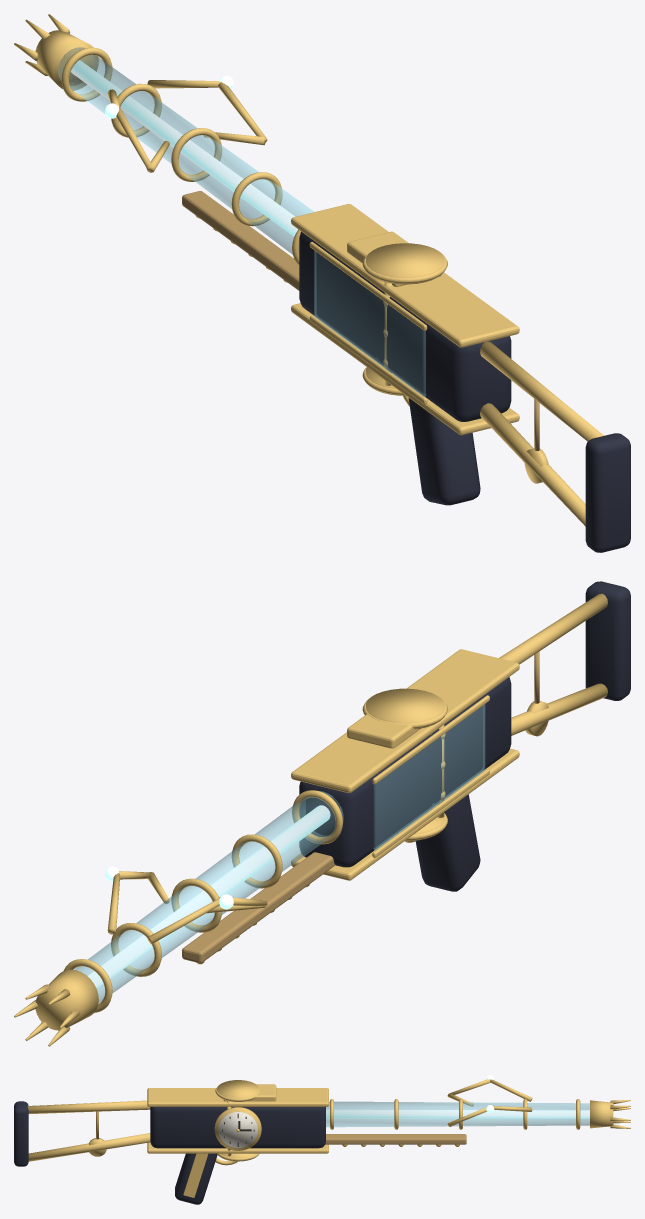
The model's file is chrono.glb.
3 views of the same model, one above another, from view 1: azimuth 30°, elevation 25°; view 2: azimuth 150°, elevation 25°; view 3: azimuth 270°, elevation 25° (orthographic). The views are drawn at different scales.
Visible parts, largest first — view 1: chrono, chrono_glass; view 2: chrono, chrono_glass; view 3: chrono, chrono_glass.
Part boxes in pixels (<box>): chrono: <box>14,14,630,552</box>; chrono_glass: <box>362,243,447,395</box>; chrono: <box>14,581,630,1046</box>; chrono_glass: <box>362,688,447,841</box>; chrono: <box>14,1075,630,1204</box>; chrono_glass: <box>215,1080,260,1161</box>.
Bounding box in the file's own units: 0.1333 × 0.2119 × 1.05.
